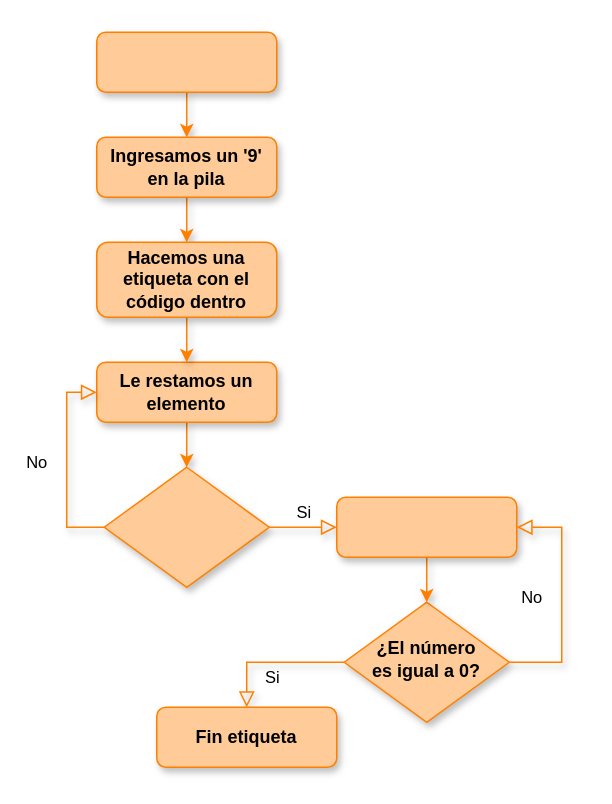
The diagram is 612 pixels wide and 804 high, and some of its shapes have lost their labels. The shapes that lost their labels are listed below. From the top down, each one's centre as x and y in pixels, then its label:
(x=187, y=64): Números del -9 al 0
(x=187, y=529): ¿El número es igual a -9?
(x=427, y=529): Agregamos un elemento
